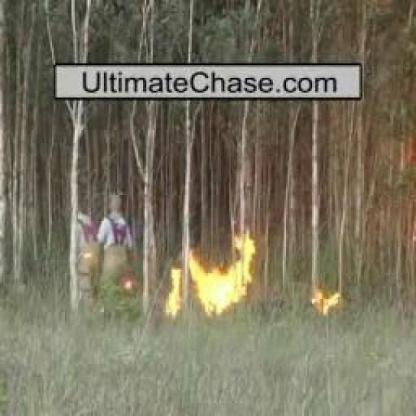fire: (184, 228, 257, 315), (312, 288, 346, 318), (166, 270, 182, 318)
